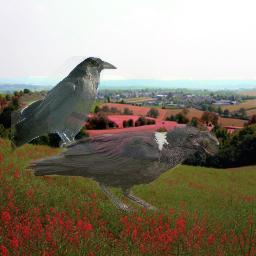Crow: (22, 123, 220, 215), (11, 56, 118, 154)
